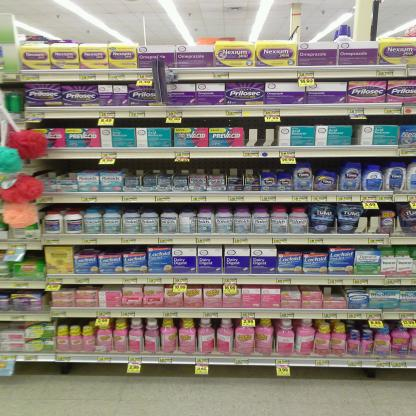Void: (188, 118, 265, 128), (76, 245, 142, 253), (278, 245, 326, 254), (246, 129, 275, 143), (285, 117, 350, 123), (44, 120, 92, 128), (125, 119, 163, 126), (373, 117, 411, 123), (27, 249, 42, 260), (322, 286, 338, 296)
